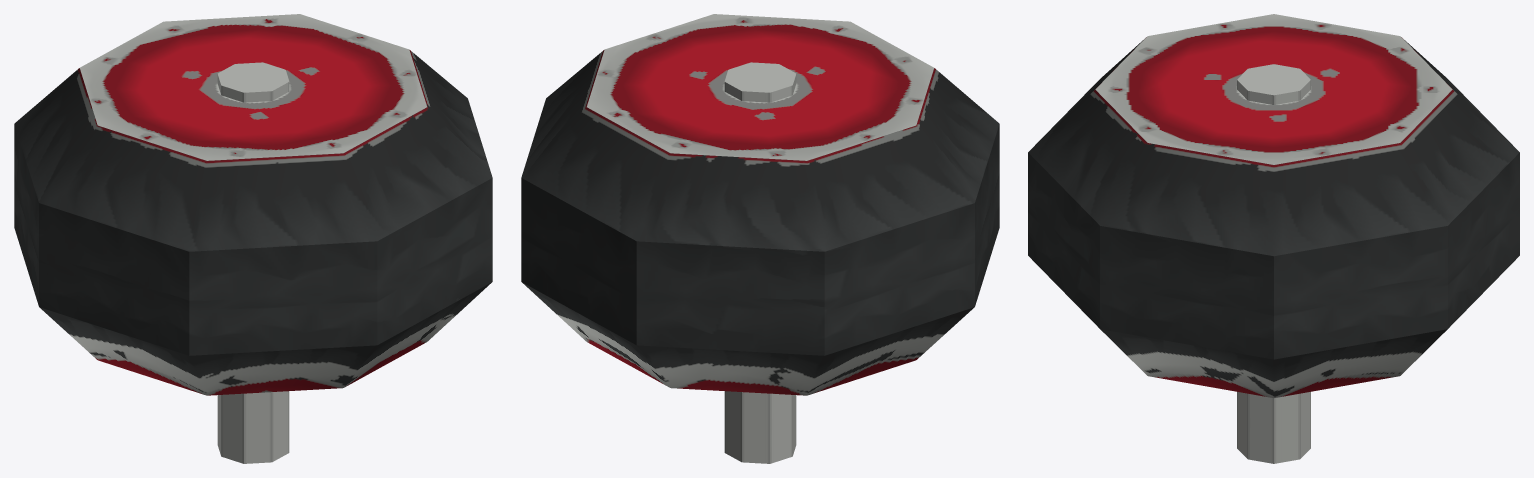
File: wheel.dae
The picture shows the model from 3 angles, left to right: view 1: azimuth 30°, elevation 25°; view 2: azimuth 150°, elevation 25°; view 3: azimuth 270°, elevation 25°; orthographic projection.
Parts seen in each view (by area): view 1: wheel; view 2: wheel; view 3: wheel.
Boxes of the visible parts, x1=… form: wheel: x1=14, y1=14, x2=492, y2=463; wheel: x1=521, y1=14, x2=999, y2=463; wheel: x1=1028, y1=14, x2=1519, y2=463.
Bounding box in the file's own units: 0.1596 × 0.1596 × 0.132.
Materials: 3 (3 with a texture image).
